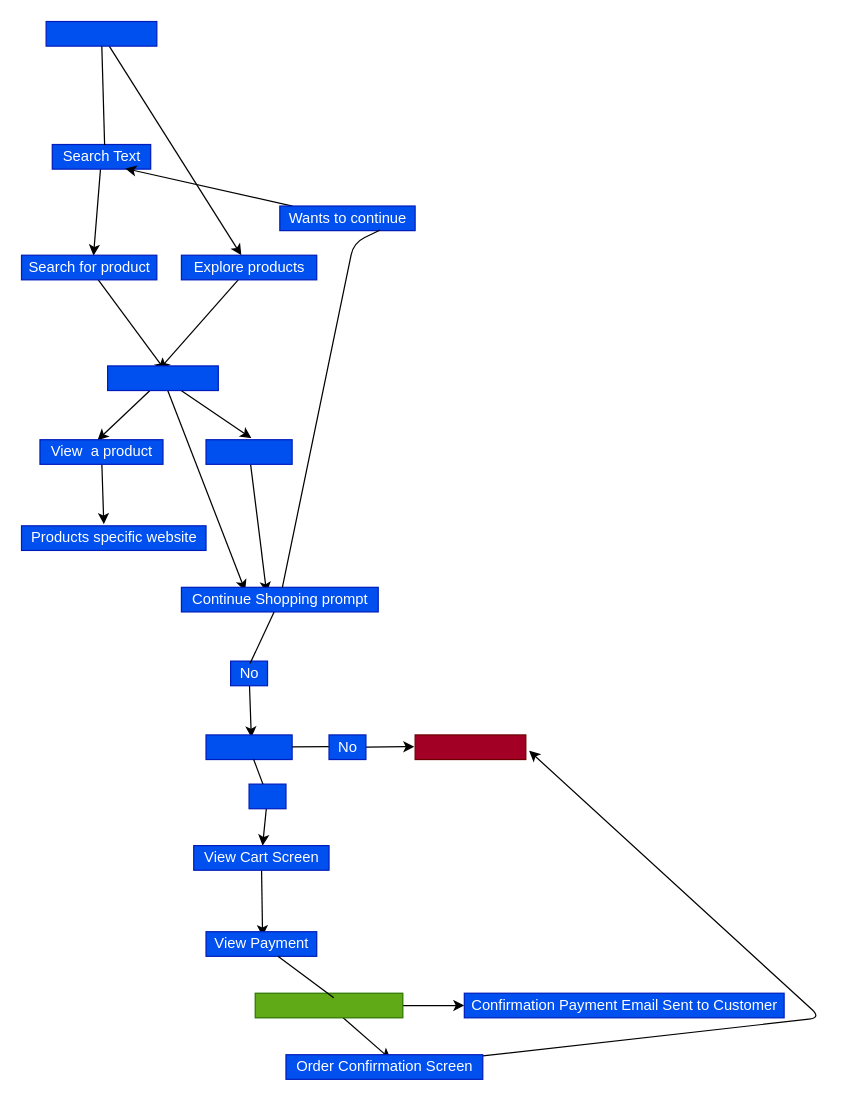
The diagram is 852 pixels wide and 1101 high, and some of its shapes have lost their labels. Here are the shapes that lost their labels. From the top down, the centre of each, then its label:
At point 101,33: "Enter Website".
At point 162,378: "Product View".
At point 248,451: "Add to cart".
At point 248,747: "Checkout".
At point 470,747: "Leave Website".
At point 267,796: "Yes".
At point 328,1005: "Payment Accepted".
